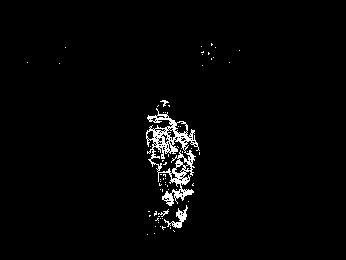person: (167, 120, 200, 228), (147, 99, 177, 205)
